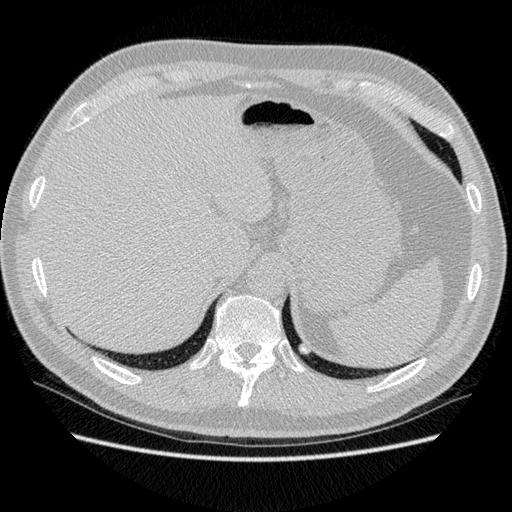nodule: (295, 342, 311, 358)
